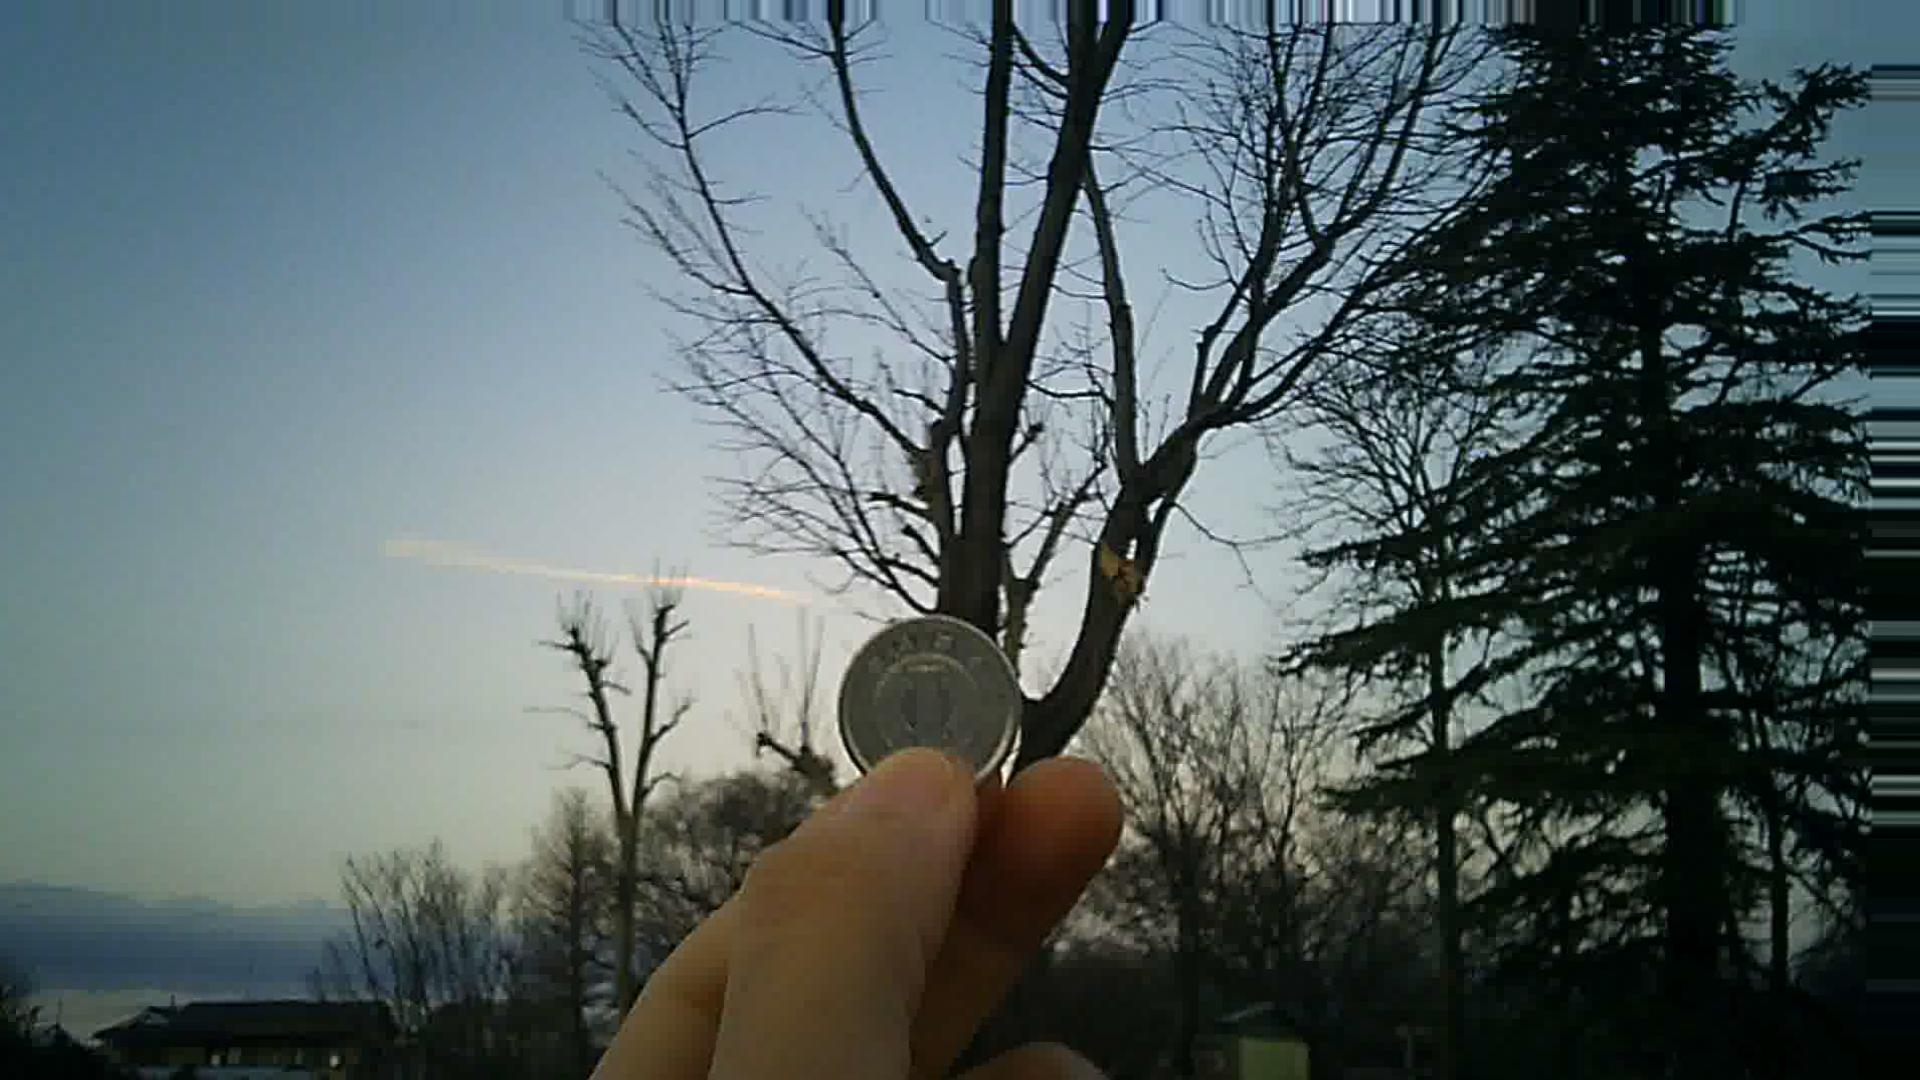1 Yen: (829, 620, 1023, 775)
